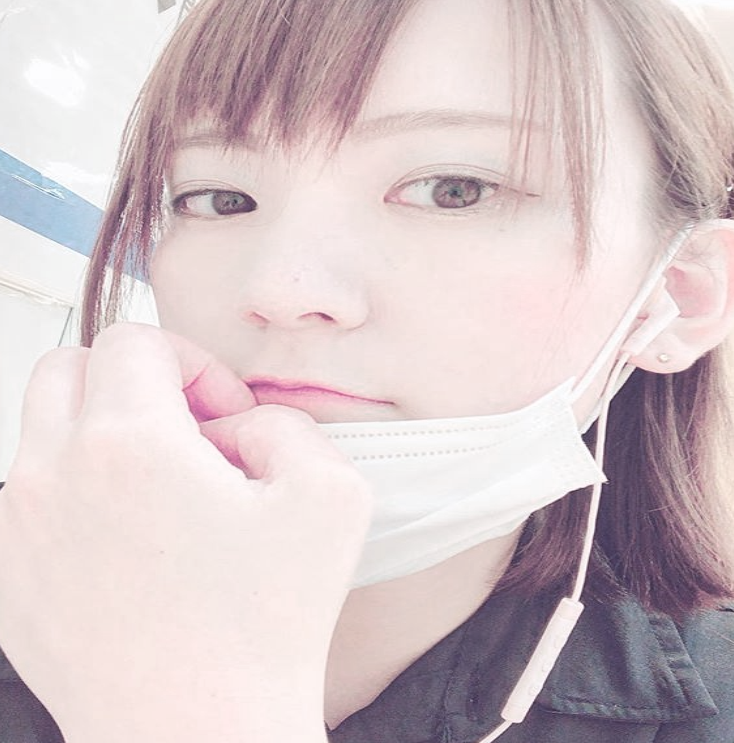mask_weared_incorrect: (142, 1, 733, 575)
